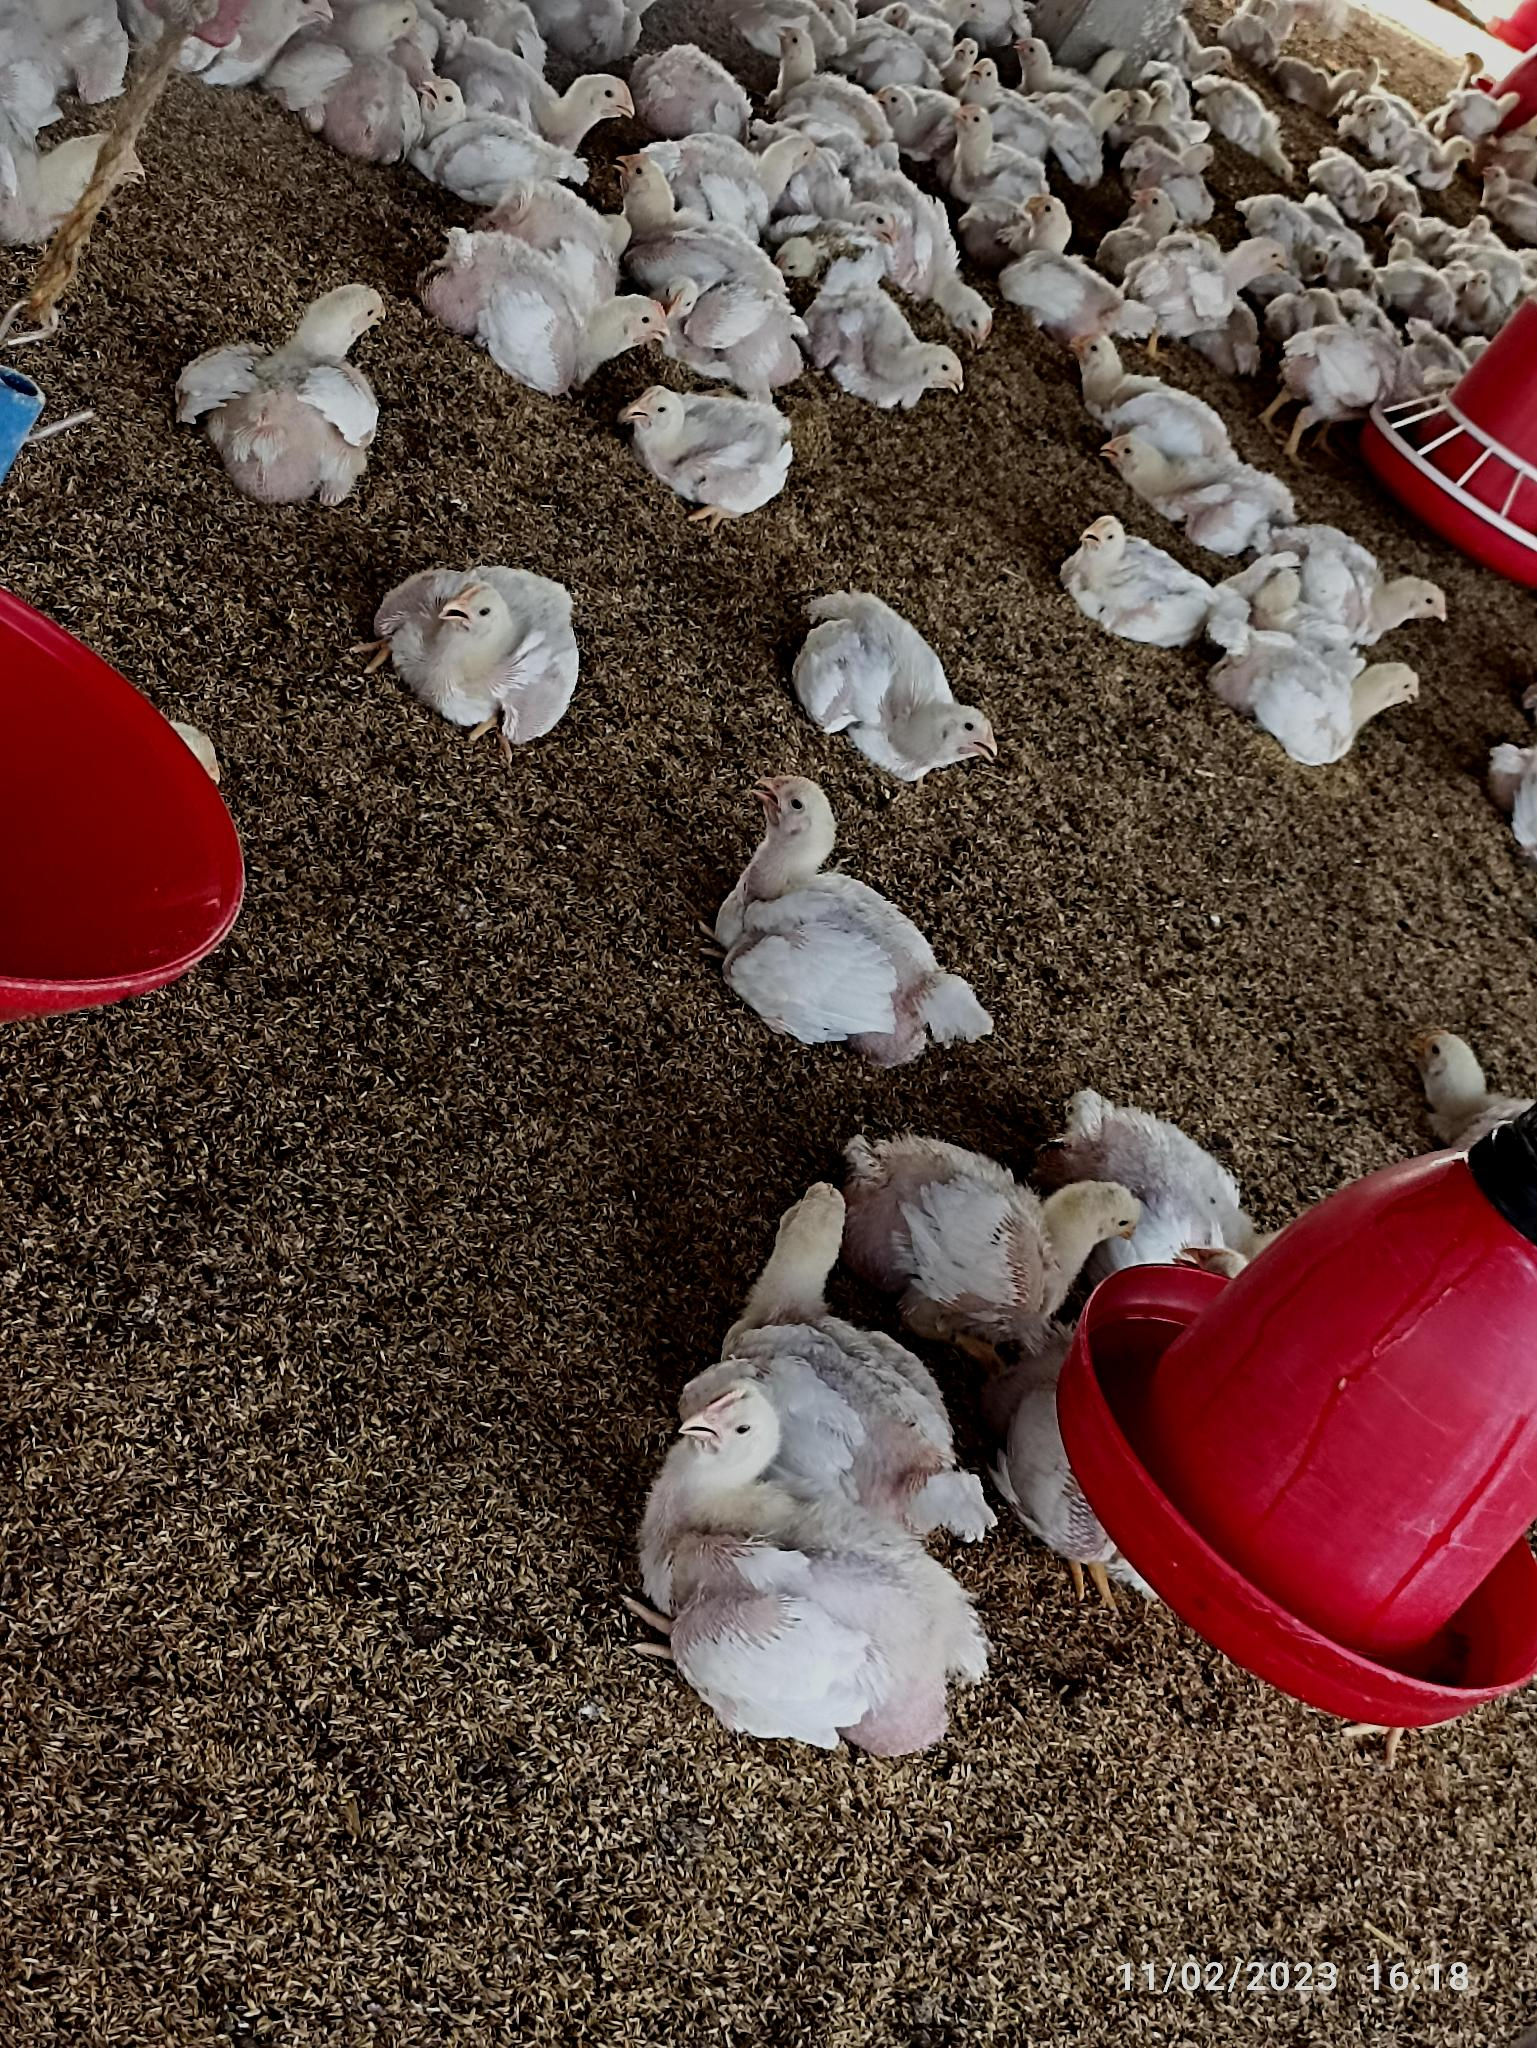Pollos: (646, 1370, 1003, 1754), (718, 767, 999, 1051), (836, 1131, 1137, 1322), (179, 276, 397, 507), (786, 591, 1003, 770), (421, 229, 668, 373), (379, 560, 584, 726), (819, 258, 969, 421), (1254, 523, 1471, 633), (631, 382, 799, 508), (1229, 644, 1426, 750), (1074, 516, 1230, 650), (1293, 305, 1421, 436), (1077, 326, 1221, 433)
